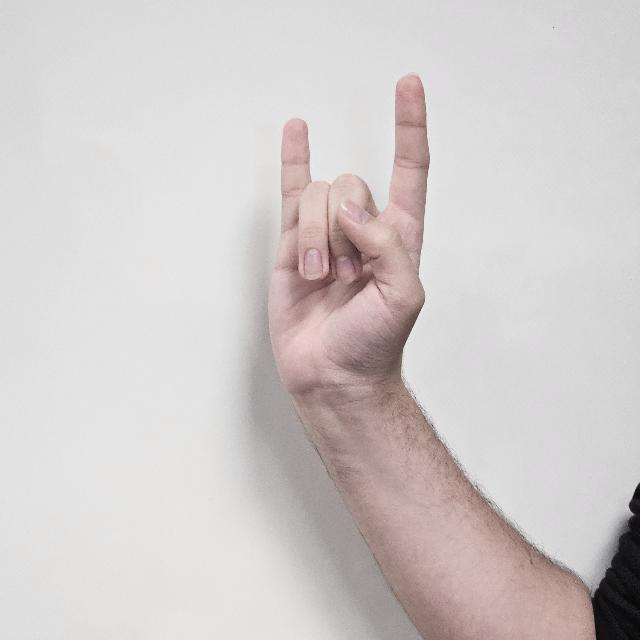L: (270, 72, 430, 386)
